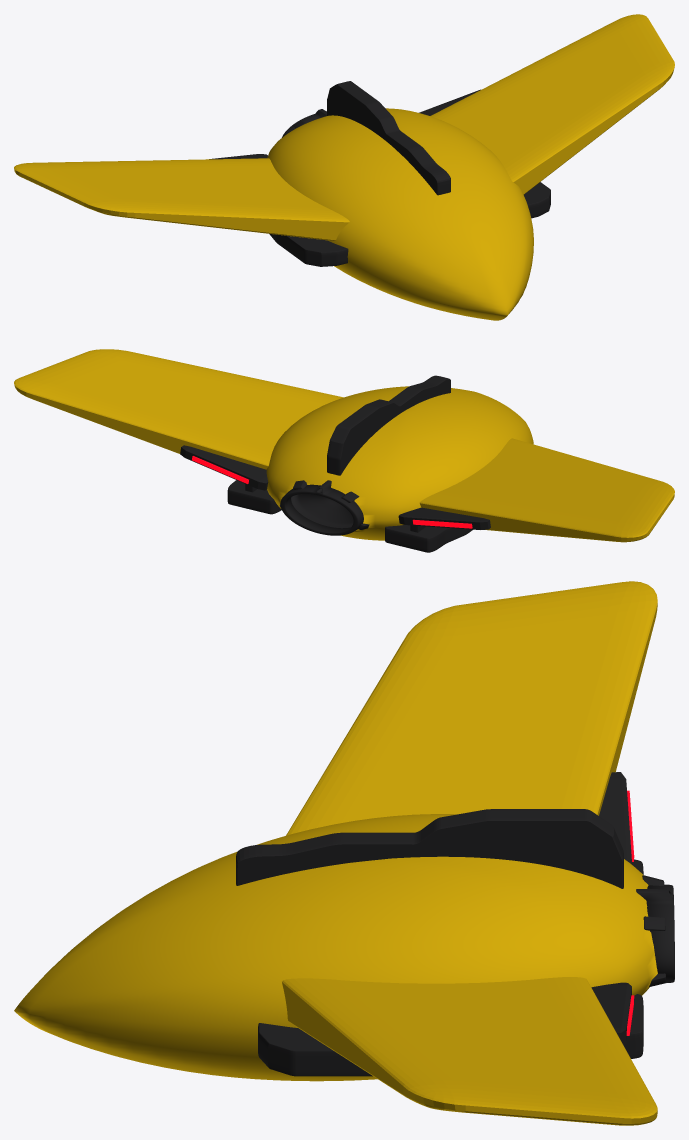
File: Ship02.fbx
3 views of the same model, one above another, from view 1: azimuth 30°, elevation 25°; view 2: azimuth 150°, elevation 25°; view 3: azimuth 270°, elevation 25° (orthographic). The views are drawn at different scales.
Parts seen in each view (by area): view 1: Plane.002; view 2: Plane.002; view 3: Plane.002.
Part boxes in pixels (x1,y1,x2,y2): Plane.002: (14, 14, 674, 320); Plane.002: (14, 349, 674, 552); Plane.002: (14, 581, 674, 1125).
Bounding box in the file's own units: 183 × 38.48 × 95.2.
